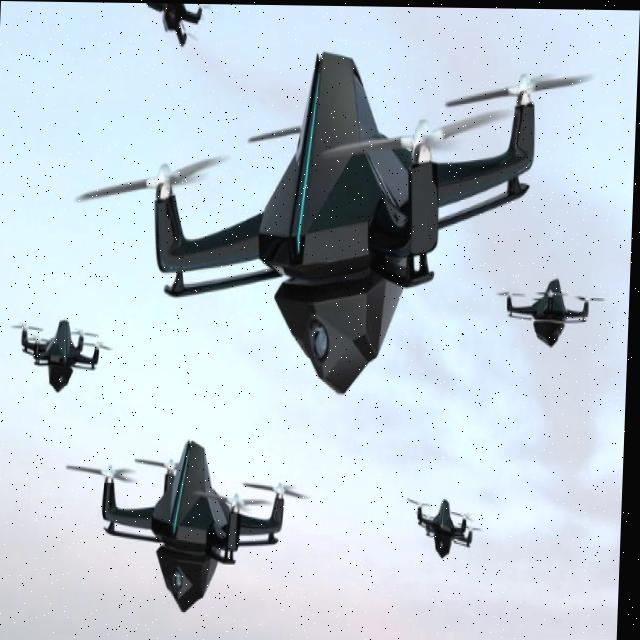drone: (77, 57, 582, 397), (72, 424, 318, 637), (9, 296, 114, 419), (500, 252, 608, 361), (408, 477, 486, 568), (135, 4, 203, 60)
